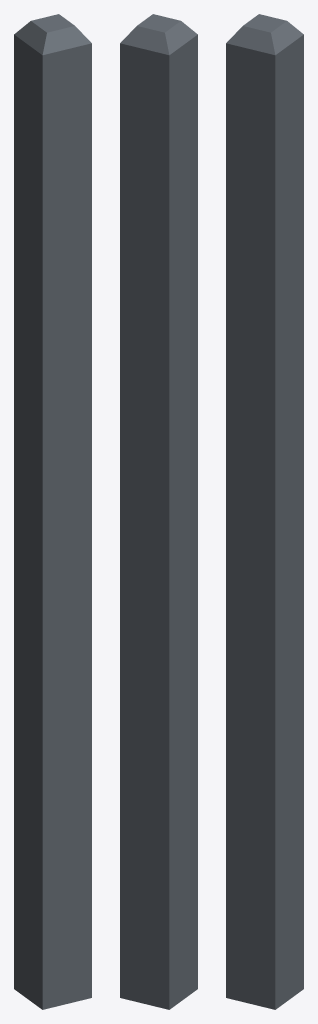
The model's file is CubicalWall_Pillar_Tall_01.FBX.
3 views of the same model, side by side, from view 1: azimuth 30°, elevation 25°; view 2: azimuth 150°, elevation 25°; view 3: azimuth 330°, elevation 25° (orthographic).
Visible parts, largest first — view 1: CubicalWall_Pillar_Tall_01; view 2: CubicalWall_Pillar_Tall_01; view 3: CubicalWall_Pillar_Tall_01.
Part boxes in pixels (left/top/right/bottom): CubicalWall_Pillar_Tall_01: left=14, top=14, right=91, bottom=1009; CubicalWall_Pillar_Tall_01: left=120, top=14, right=197, bottom=1009; CubicalWall_Pillar_Tall_01: left=226, top=14, right=303, bottom=1009.
Size of the model in its own units: 10.65 by 200 by 10.65.
